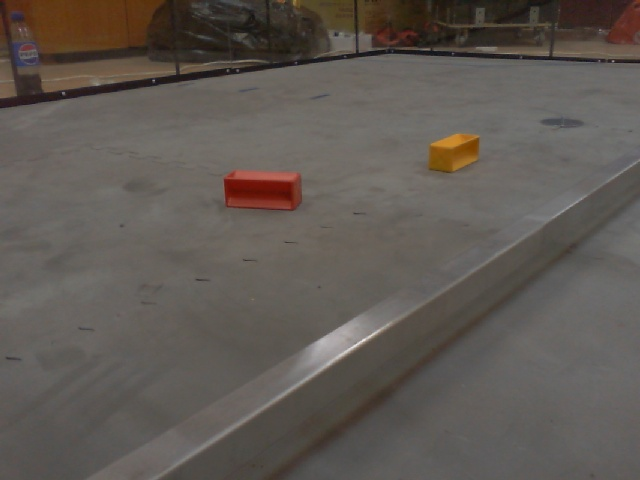RedSample: (222, 167, 305, 213)
YellowSample: (426, 130, 480, 173)
